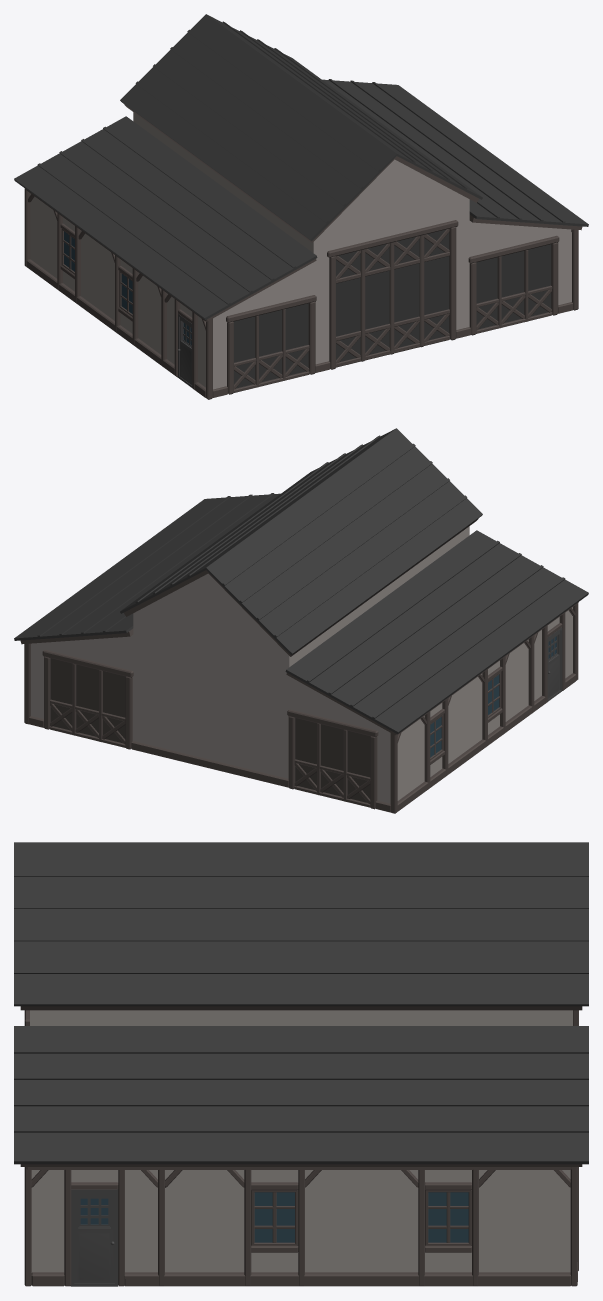
The model's file is farmbuilding_02.glb.
3 renders of one model, top to bottom at view 1: azimuth 30°, elevation 25°; view 2: azimuth 150°, elevation 25°; view 3: azimuth 270°, elevation 25°, orthographic. The views are drawn at different scales.
Parts seen in each view (by area): view 1: farmbuilding_02; view 2: farmbuilding_02; view 3: farmbuilding_02.
Boxes of the visible parts, left/top/right/bottom form: farmbuilding_02: left=14, top=14, right=588, bottom=399; farmbuilding_02: left=14, top=428, right=588, bottom=813; farmbuilding_02: left=14, top=842, right=588, bottom=1286.
Size of the model in its own units: 14.79 by 7.51 by 12.7.
1 material, 1 textured.
